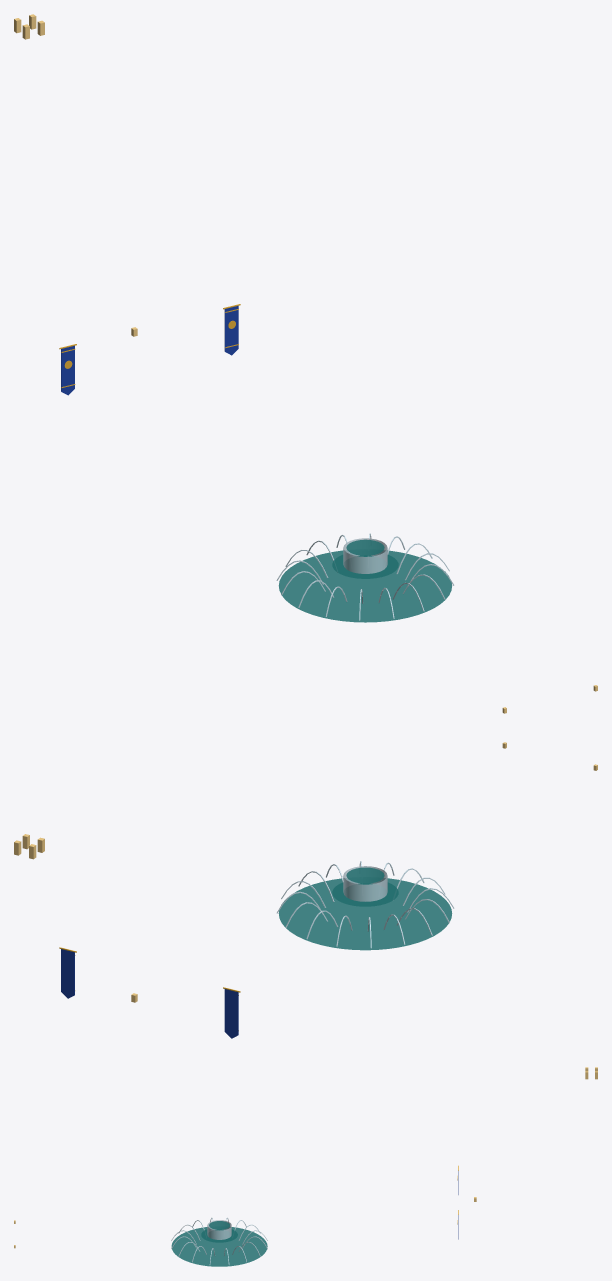
Rendered from SM_ObeliskBoys_NoCol.fbx.
The picture shows the model from 3 angles, top to bottom: view 1: azimuth 30°, elevation 25°; view 2: azimuth 150°, elevation 25°; view 3: azimuth 270°, elevation 25°; orthographic projection. The views are drawn at different scales.
Parts seen in each view (by area): view 1: SM_ObeliskBoys_NoCol; view 2: SM_ObeliskBoys_NoCol; view 3: SM_ObeliskBoys_NoCol.
Boxes of the visible parts, box(x1,y1,x2,y2) form: SM_ObeliskBoys_NoCol: box(14, 14, 597, 713); SM_ObeliskBoys_NoCol: box(14, 742, 597, 1038); SM_ObeliskBoys_NoCol: box(14, 1067, 597, 1266).
Bounding box in the file's own units: 19.9 × 33.57 × 100.
